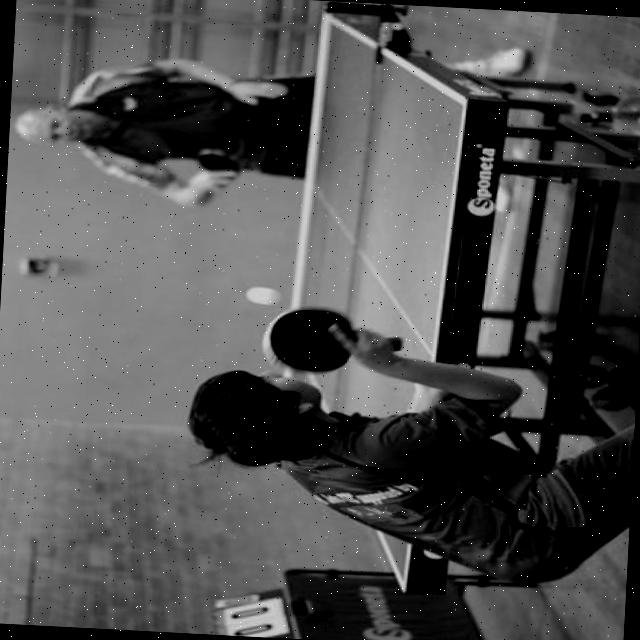ping-pong-ball: (242, 283, 282, 306)
